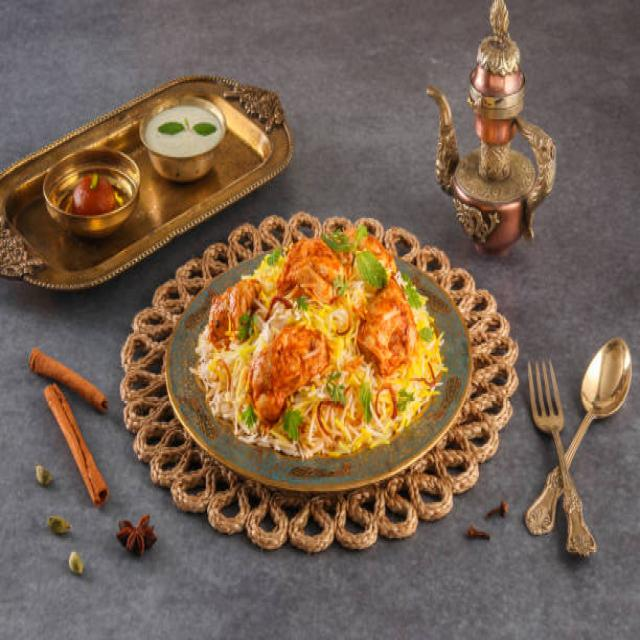BIRIYANI: (204, 228, 439, 447)
SWEET: (70, 180, 113, 213)
